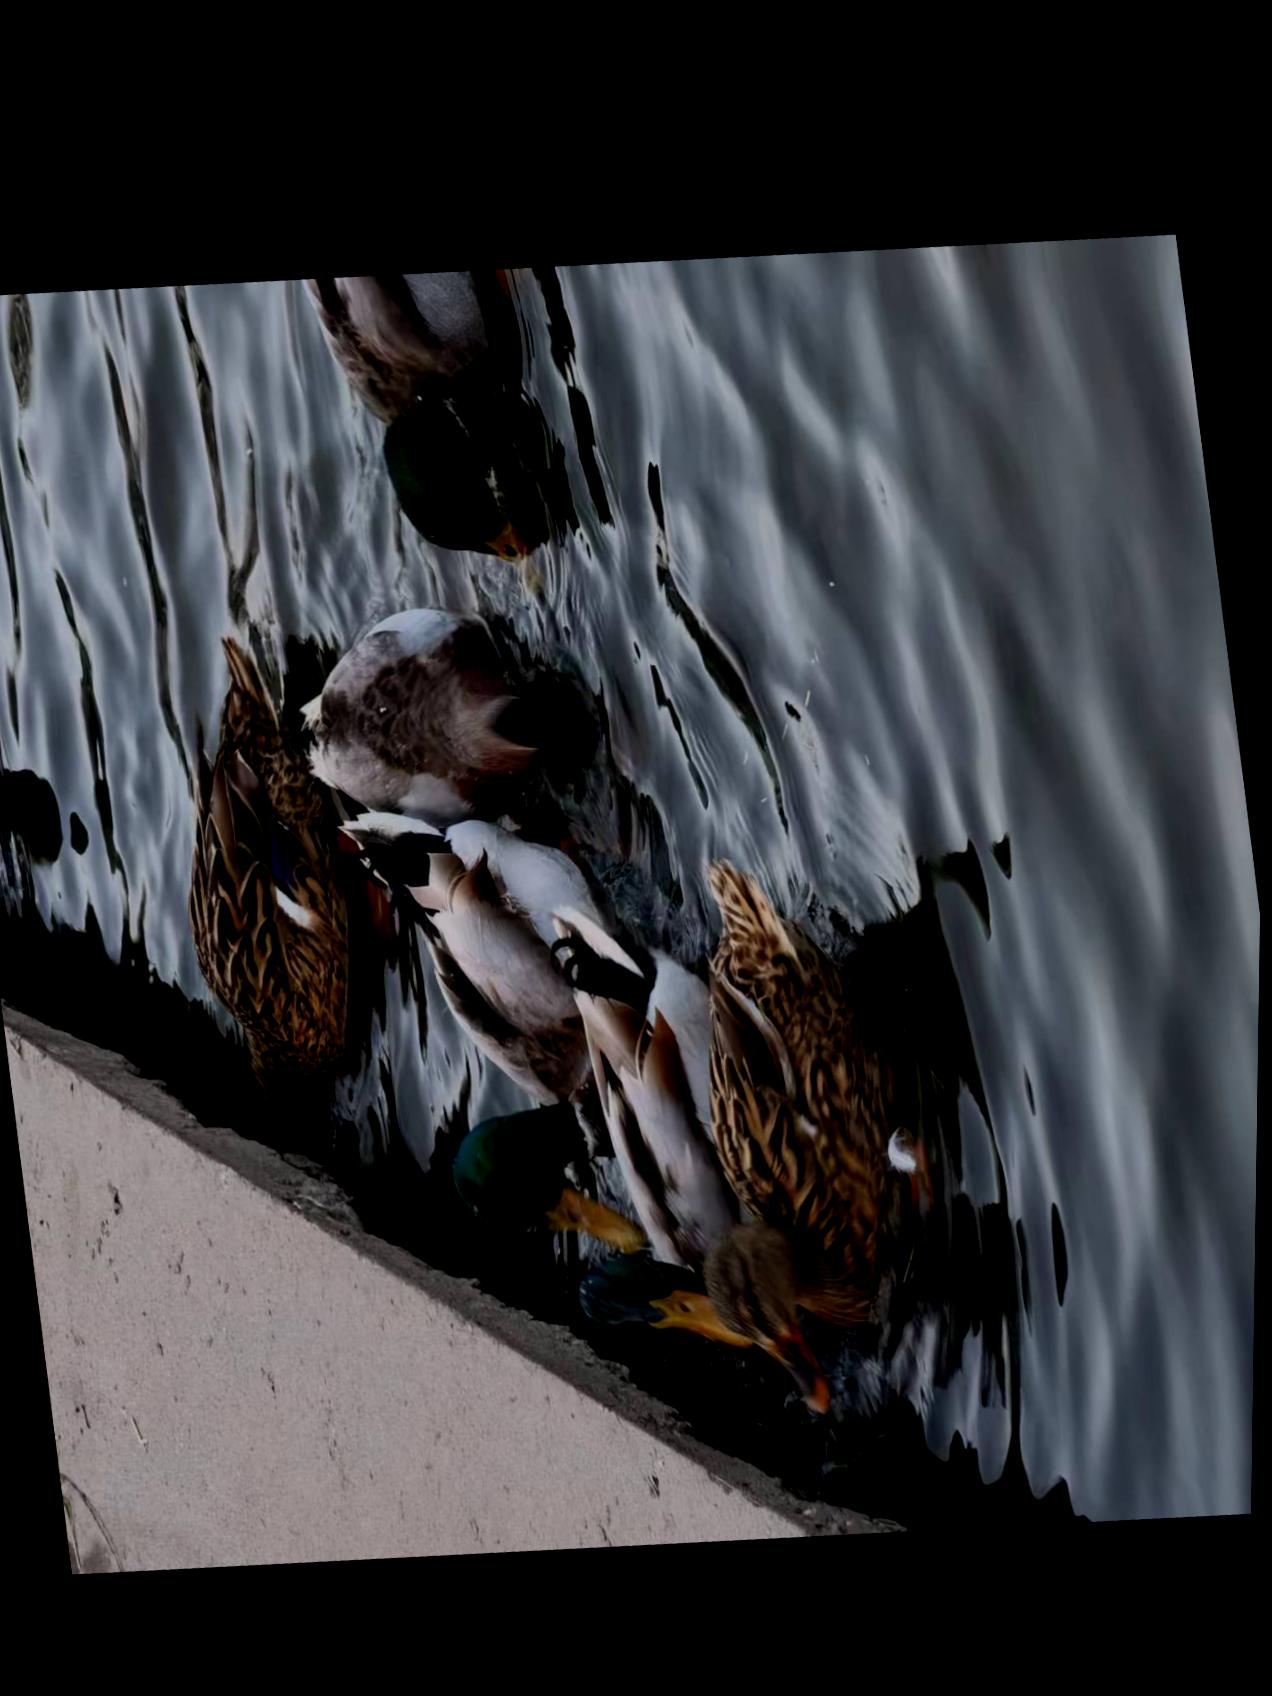duck: (659, 827, 946, 1425), (339, 772, 648, 1266), (142, 600, 400, 1166), (525, 881, 770, 1365), (273, 564, 591, 832), (309, 246, 545, 569)
